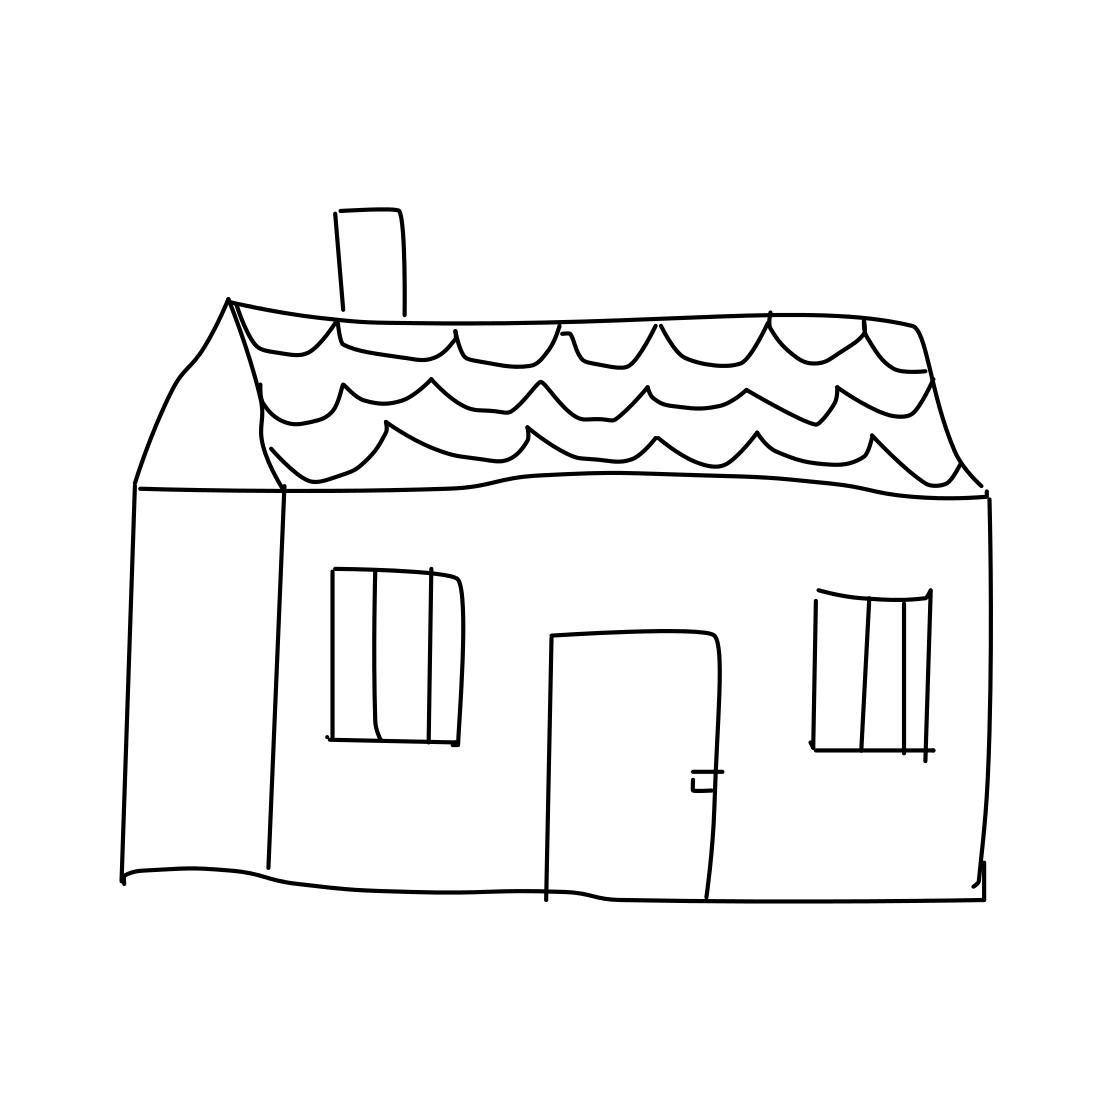chimney: (318, 188, 421, 339)
door: (538, 624, 725, 909)
house: (110, 141, 998, 925)
roof: (102, 283, 1006, 510)
window: (316, 548, 475, 762), (790, 578, 945, 767)
